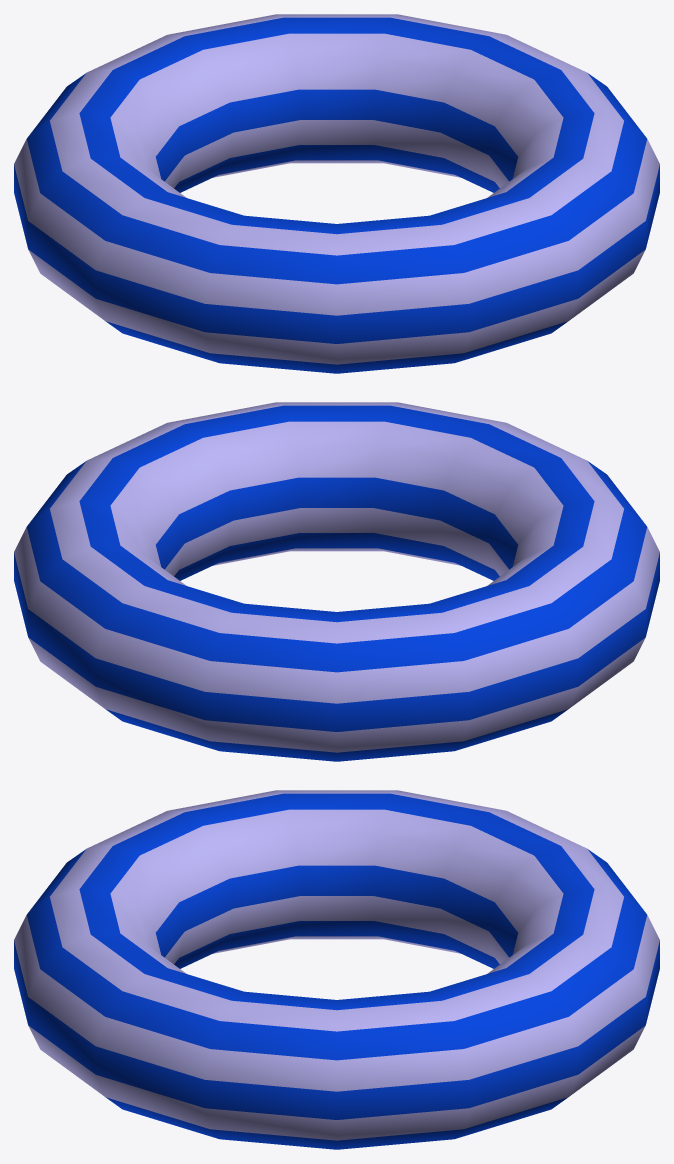
File: guma1.fbx
3 views of the same model, one above another, from view 1: azimuth 30°, elevation 25°; view 2: azimuth 150°, elevation 25°; view 3: azimuth 270°, elevation 25° (orthographic).
Parts seen in each view (by area): view 1: GumaZaPlivanje.001; view 2: GumaZaPlivanje.001; view 3: GumaZaPlivanje.001.
Part boxes in pixels (x1=…): GumaZaPlivanje.001: x1=14, y1=14, x2=659, y2=373; GumaZaPlivanje.001: x1=14, y1=402, x2=659, y2=761; GumaZaPlivanje.001: x1=14, y1=790, x2=659, y2=1149.
Size of the model in its own units: 146 by 34.14 by 147.
